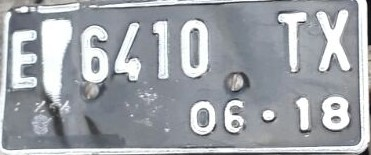plate: (4, 2, 371, 151)
